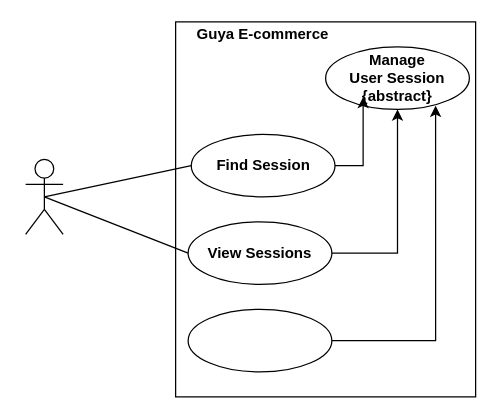
Image size: 498x419. Some labels were removed from this diagram. Here are the shapes that lost their labels. From the top down, the centre of each, then its label:
point 43,196: Admin
point 259,340: Cancel Session
